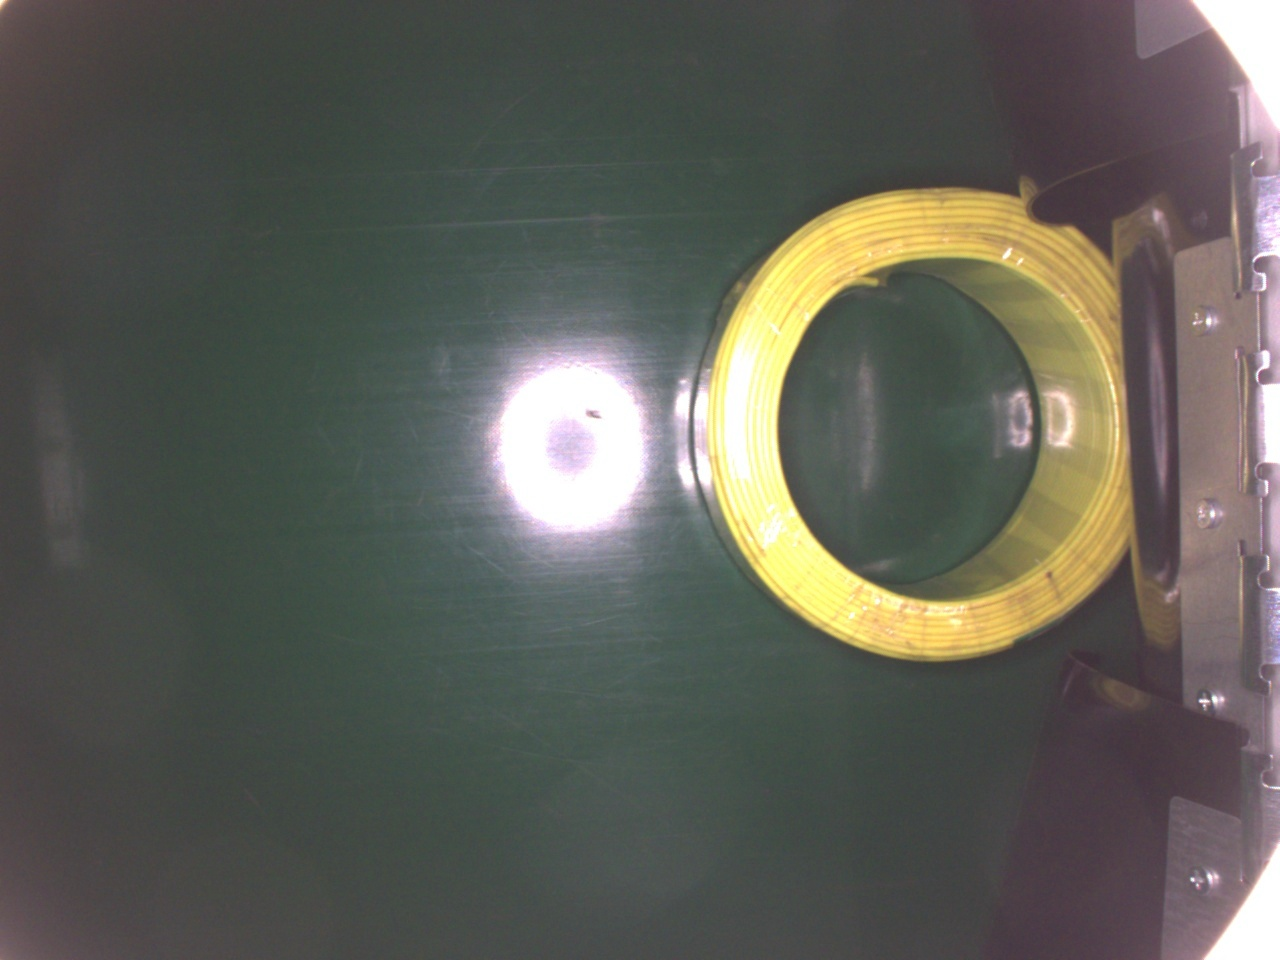yellow: (689, 181, 1132, 664)
